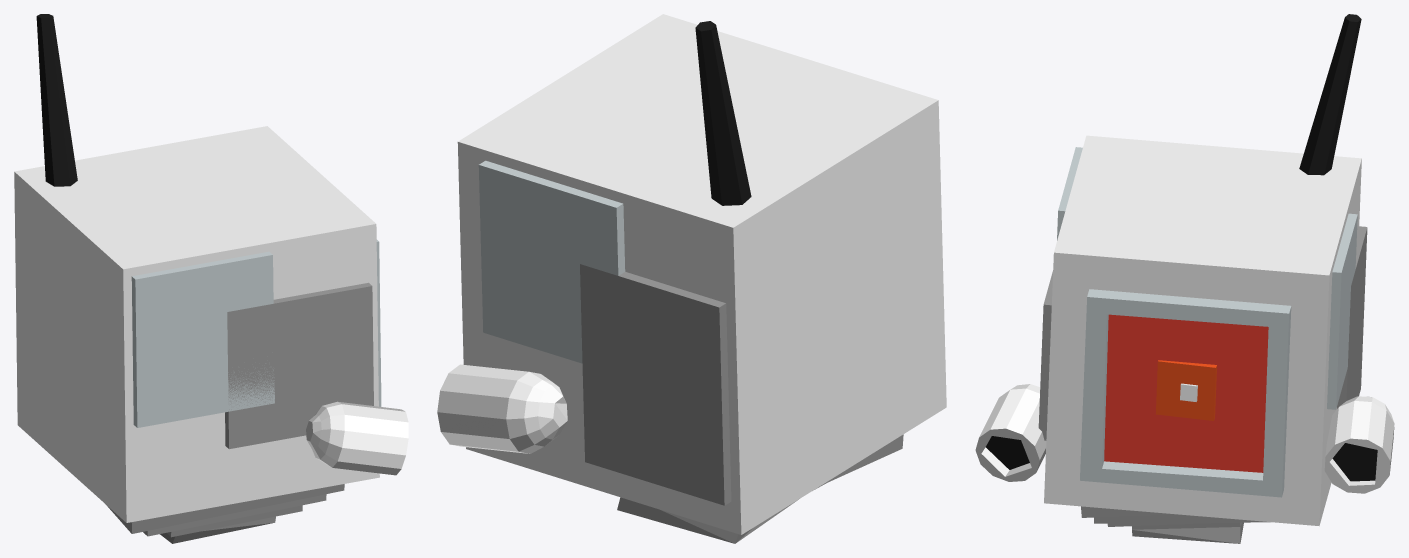
Rendered from Drobo.glb.
3 views of the same model, side by side, from view 1: azimuth 30°, elevation 25°; view 2: azimuth 150°, elevation 25°; view 3: azimuth 270°, elevation 25° (orthographic). The views are drawn at different scales.
Parts seen in each view (by area): view 1: group1499478282, group1161498515, group285545772, group1779582282, group51562467, group127106383, group628930747, group644185553, group359281020, group1625562587; view 2: group1499478282, group2041303849, group1753084032, group1510765900, group51562467, group359281020, group127106383; view 3: group1499478282, group1625562587, group1510765900, group1779582282, group51562467, group1753084032, group539806807, group2041303849, group359281020, group1161498515, group628930747, group127106383 (+1 smaller).
Part boxes in pixels (left/top/right/bottom): group1499478282: left=14, top=126, right=379, bottom=522; group1161498515: left=225, top=282, right=373, bottom=449; group285545772: left=131, top=251, right=274, bottom=427; group1779582282: left=306, top=401, right=408, bottom=475; group51562467: left=36, top=14, right=77, bottom=186; group127106383: left=105, top=484, right=344, bottom=533; group628930747: left=143, top=494, right=326, bottom=536; group644185553: left=167, top=505, right=302, bottom=537; group359281020: left=160, top=516, right=275, bottom=543; group1625562587: left=376, top=239, right=381, bottom=406; group1499478282: left=457, top=14, right=946, bottom=534; group2041303849: left=580, top=264, right=731, bottom=505; group1753084032: left=478, top=160, right=625, bottom=363; group1510765900: left=437, top=364, right=567, bottom=453; group51562467: left=695, top=21, right=751, bottom=205; group359281020: left=617, top=497, right=798, bottom=543; group127106383: left=822, top=434, right=903, bottom=484; group1499478282: left=1044, top=135, right=1361, bottom=526; group1625562587: left=1080, top=289, right=1291, bottom=497; group1510765900: left=1324, top=396, right=1394, bottom=493; group1779582282: left=975, top=384, right=1046, bottom=481; group51562467: left=1299, top=14, right=1361, bottom=175; group1753084032: left=1327, top=213, right=1357, bottom=409; group539806807: left=1155, top=360, right=1216, bottom=420; group2041303849: left=1337, top=226, right=1367, bottom=408; group359281020: left=1132, top=522, right=1243, bottom=543; group1161498515: left=1038, top=270, right=1053, bottom=440; group628930747: left=1094, top=515, right=1270, bottom=523; group127106383: left=1081, top=506, right=1181, bottom=517.
Size of the model in its own units: 0.3835 by 0.6073 by 0.4964.
